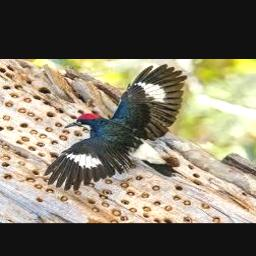Woodpecker: (44, 64, 187, 191)
